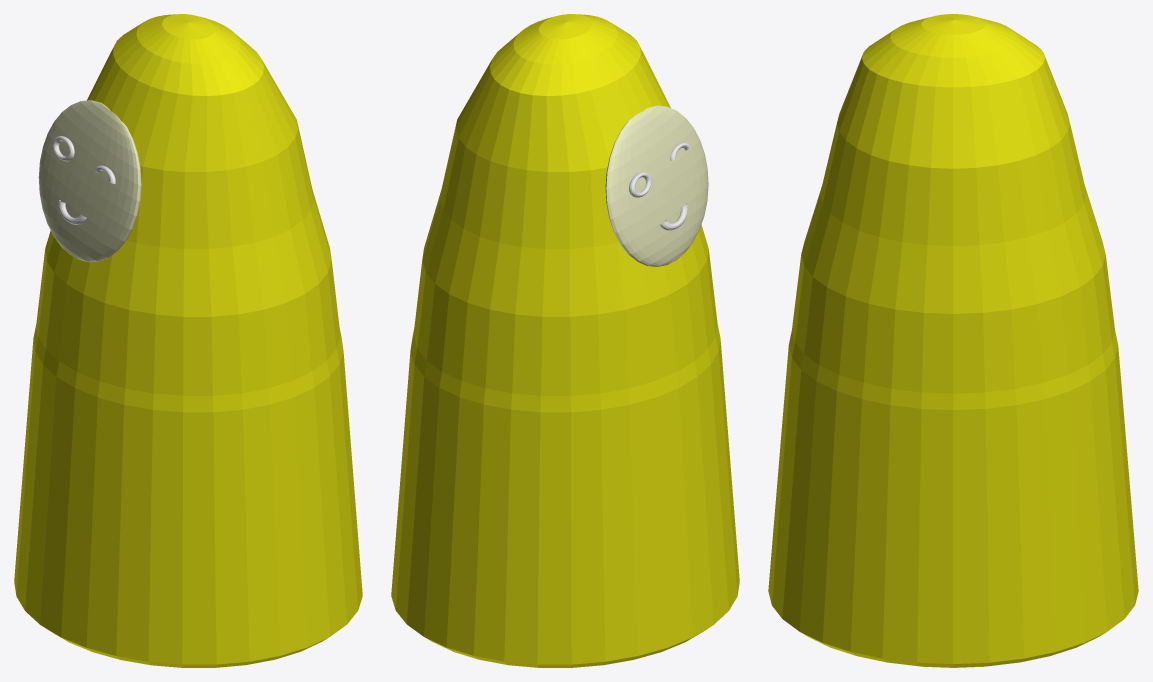
File: yellow_objects_3.gltf
The picture shows the model from 3 angles, left to right: view 1: azimuth 30°, elevation 25°; view 2: azimuth 150°, elevation 25°; view 3: azimuth 270°, elevation 25°; orthographic projection.
Visible parts, largest first — view 1: Sphere, face; view 2: Sphere, face; view 3: Sphere.
Boxes of the visible parts, x1,y1,x2,y2 form: Sphere: [14, 14, 362, 667]; face: [38, 100, 141, 262]; Sphere: [391, 14, 739, 667]; face: [605, 105, 708, 266]; Sphere: [768, 14, 1138, 667].
Size of the model in its own units: 0.9836 by 1.9 by 1.05.
